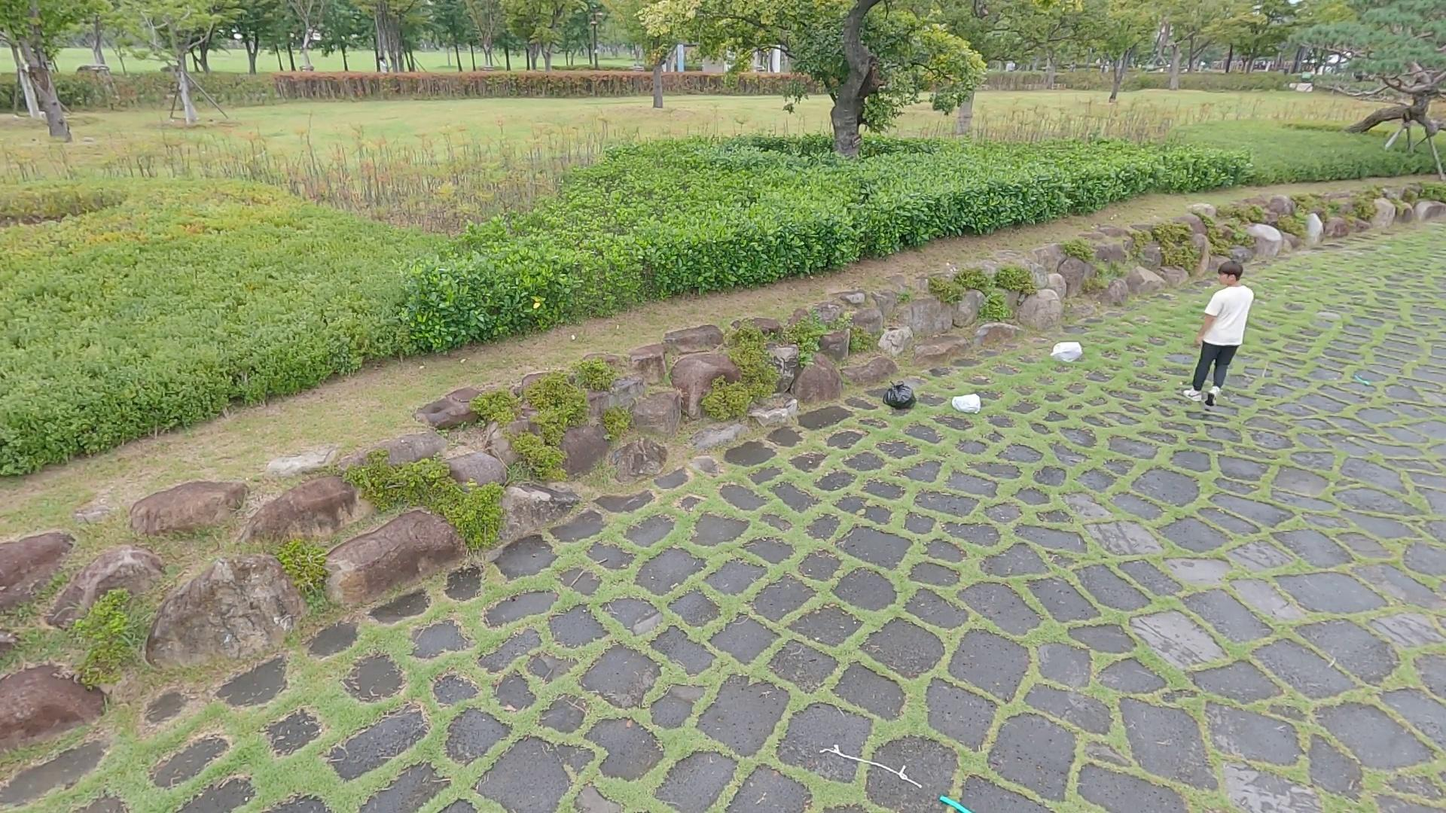person: (1181, 255, 1259, 407)
trash: (883, 378, 920, 414), (1048, 339, 1083, 366), (950, 391, 984, 415)
